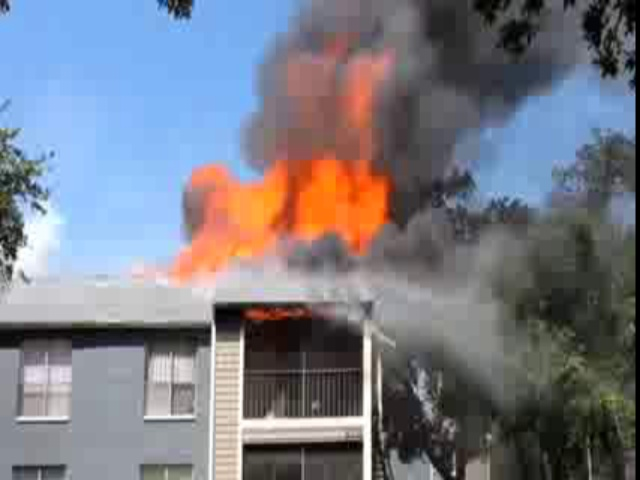fire: (176, 134, 388, 259)
